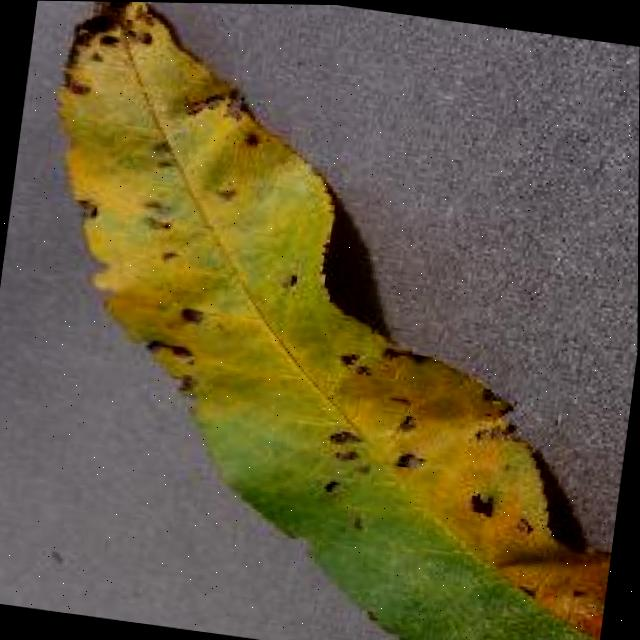Bacterial_spot: (0, 0, 604, 629)
